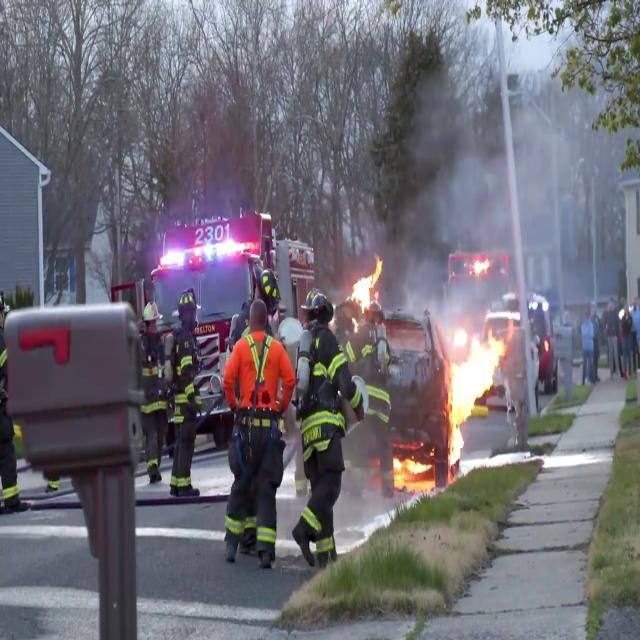Fire: (442, 322, 506, 465), (348, 254, 384, 315), (392, 450, 432, 490)
Smoke: (400, 12, 634, 340)
